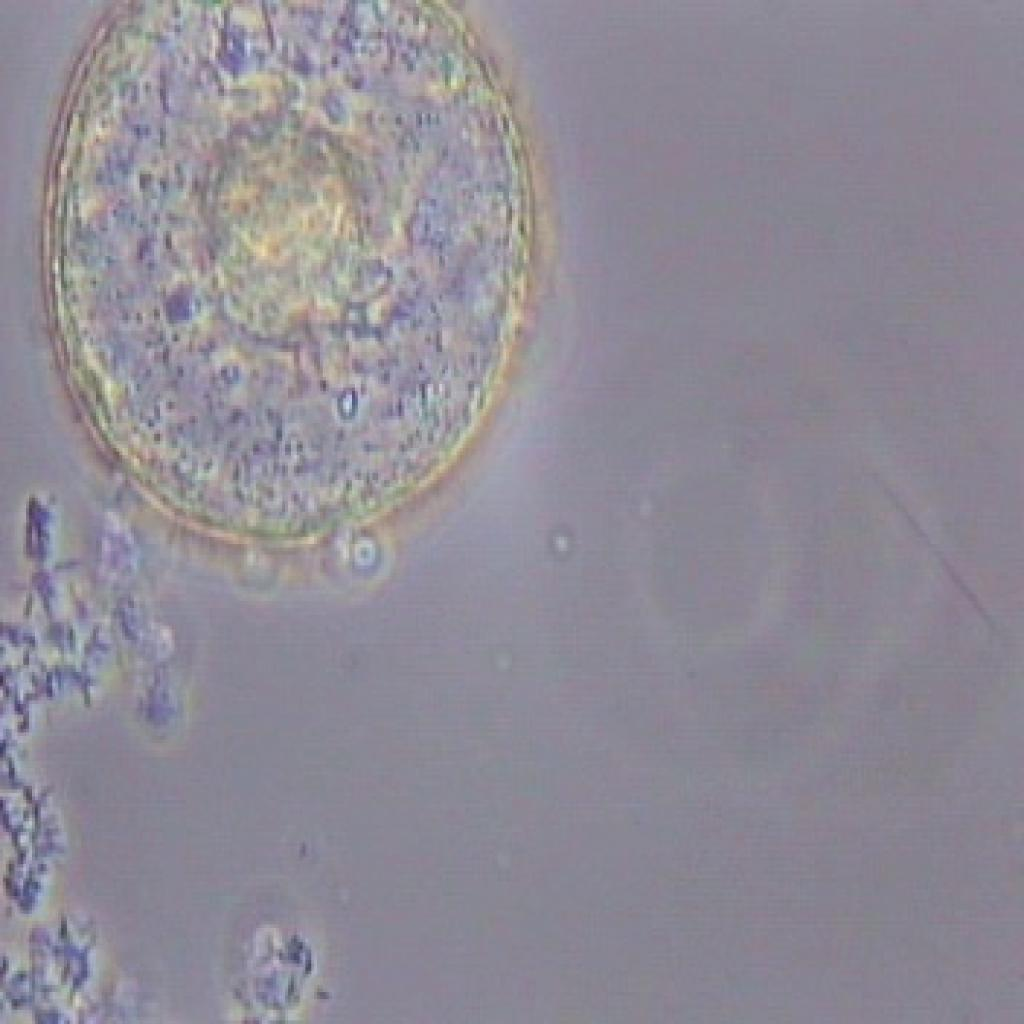Arcella: (35, 0, 573, 615)
